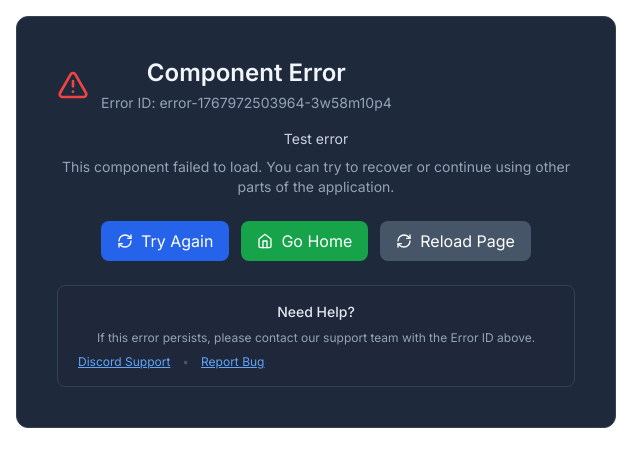
Test: ErrorBoundary Component › Retry Limits › shows retry count when retrying
Click the button "Try Again": coordinates (165, 241) [101,221,230,261]
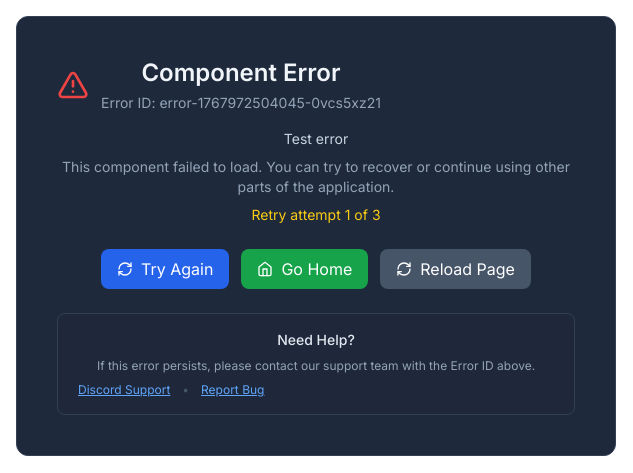
Expected: the text "Retry attempt 1 of 3" is shown, [252,206,381,223]
